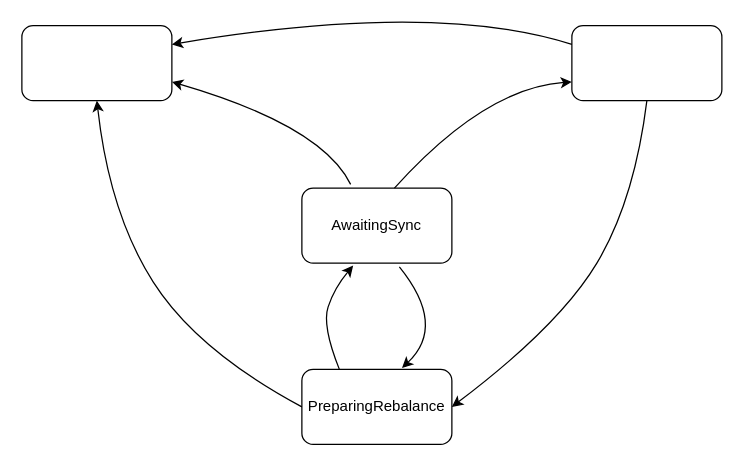
The diagram is 744 pixels wide and 466 high, and some of its shapes have lost their labels. The centre of each missing label's shape, as x and y in pixels:
"Dead" belongs at point (96, 62).
"Stable" belongs at point (646, 62).
